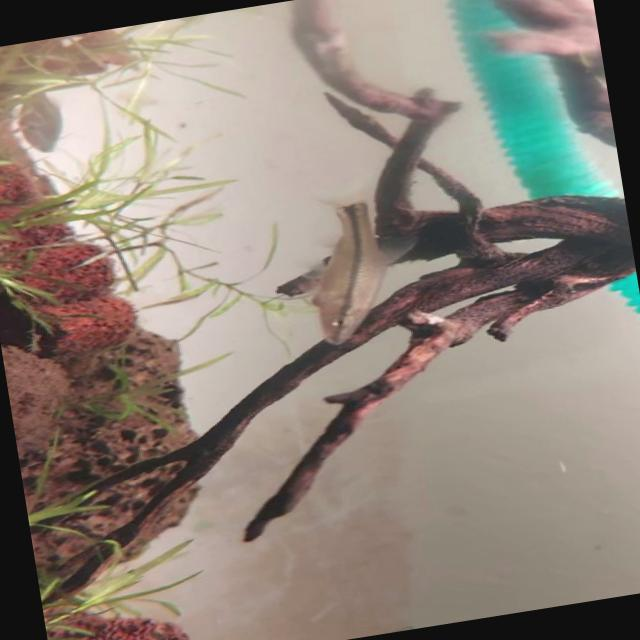Cakil Baligi: (286, 183, 428, 360)
